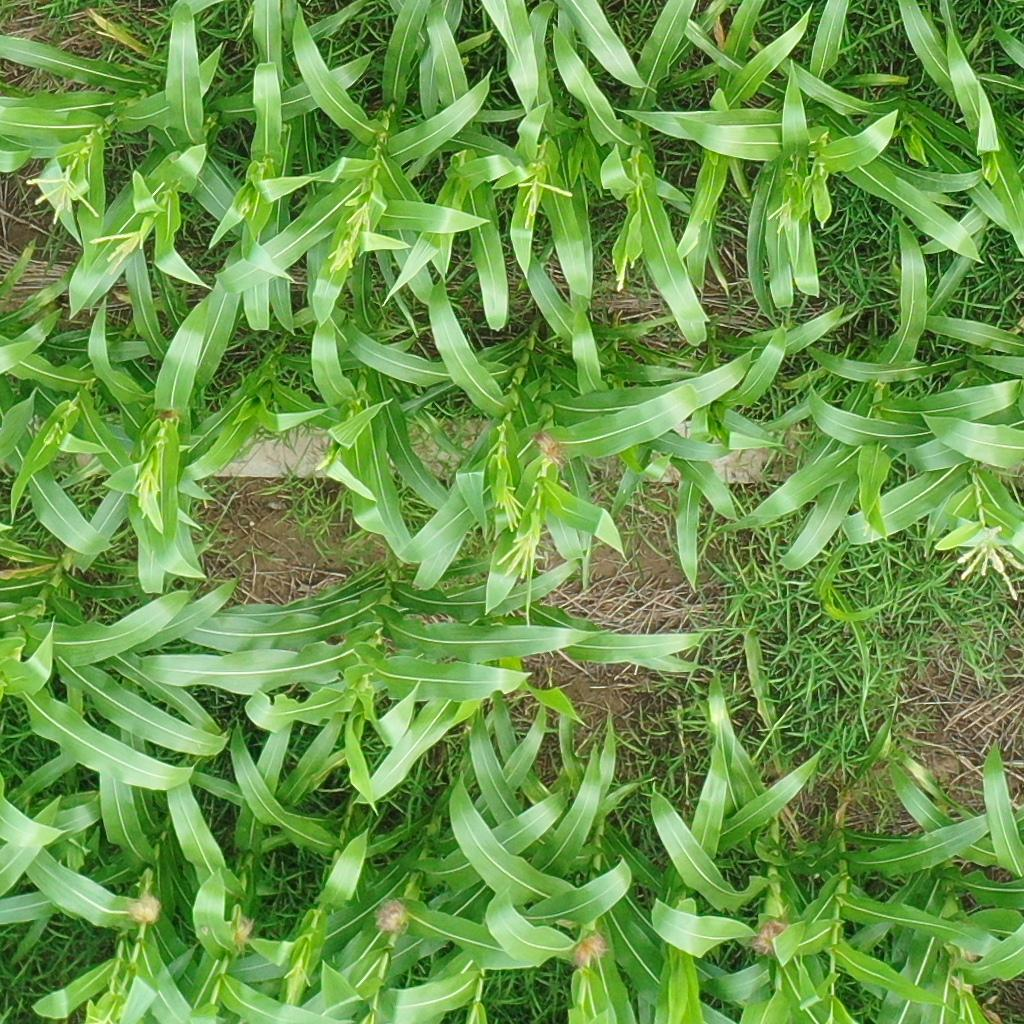Tassel: (951, 525, 1024, 601), (22, 163, 99, 226), (511, 176, 574, 229), (495, 529, 541, 580), (87, 228, 145, 267), (493, 482, 526, 532), (132, 463, 160, 520), (283, 957, 311, 1002), (346, 199, 373, 240), (767, 199, 796, 236), (326, 240, 355, 272), (85, 1000, 120, 1024), (614, 256, 636, 293), (314, 453, 334, 473), (236, 197, 251, 220)
